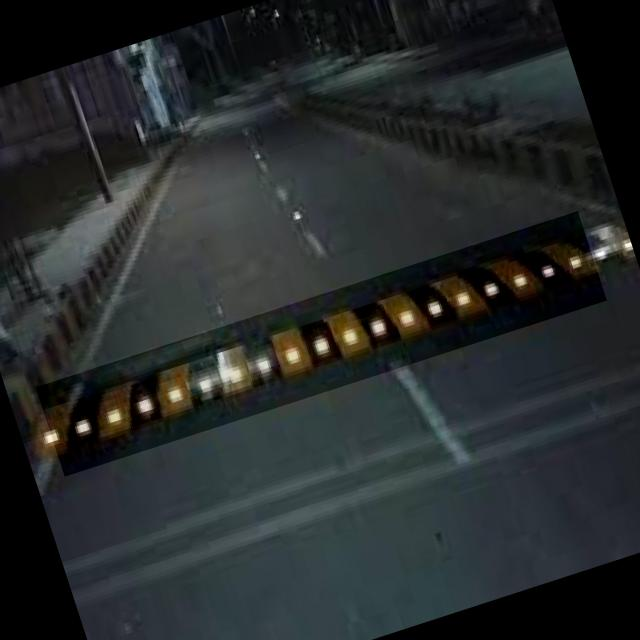bump: (36, 212, 606, 478)
